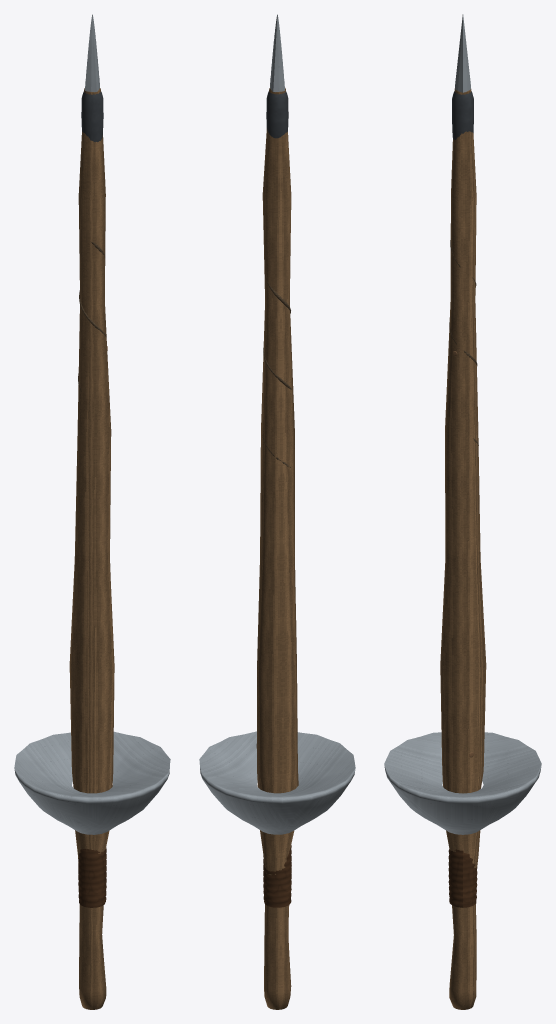
File: war-lance.lod1.glb
3 views of the same model, side by side, from view 1: azimuth 30°, elevation 25°; view 2: azimuth 150°, elevation 25°; view 3: azimuth 270°, elevation 25° (orthographic).
Visible parts, largest first — view 1: wood / oiled hardwood, steel / forged blade steel, leather / oiled leather wrap, darksteel / oil-blackened fittings; view 2: wood / oiled hardwood, steel / forged blade steel, leather / oiled leather wrap, darksteel / oil-blackened fittings; view 3: wood / oiled hardwood, steel / forged blade steel, leather / oiled leather wrap, darksteel / oil-blackened fittings.
Part boxes in pixels (x1,y1,x2,y2): wood / oiled hardwood: (69,88,114,1009); steel / forged blade steel: (14,14,170,834); leather / oiled leather wrap: (78,847,106,907); darksteel / oil-blackened fittings: (81,91,103,142); wood / oiled hardwood: (257,88,298,1009); steel / forged blade steel: (199,14,355,834); leather / oiled leather wrap: (263,845,291,907); darksteel / oil-blackened fittings: (266,91,288,138); wood / oiled hardwood: (440,88,486,1009); steel / forged blade steel: (384,14,541,834); leather / oiled leather wrap: (448,849,477,907); darksteel / oil-blackened fittings: (452,91,473,139).
Bounding box in the file's own units: 0.304 × 2.11 × 0.304.
Materials: 7 (5 with a texture image).
